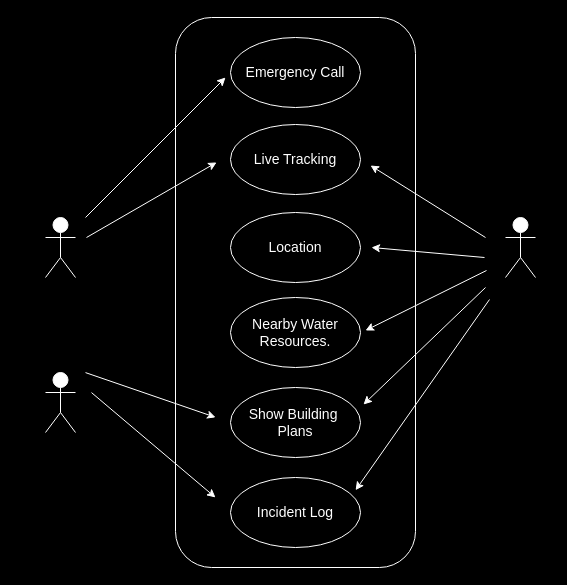
Some shapes in this 567 by 585 pixel diagram are drawn without their labels. Here are the shapes that lost their labels. From the top down, the centre of each, then its label:
At point (60, 247): "User".
At point (520, 247): "Fire Man".
At point (60, 402): "Fire administrator".
